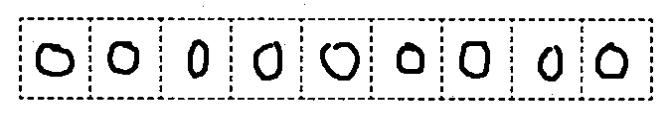O: (314, 37, 363, 86), (588, 37, 636, 82), (30, 40, 77, 82), (454, 36, 496, 83), (178, 35, 216, 83), (249, 37, 288, 83), (104, 36, 146, 77), (389, 38, 430, 80), (533, 41, 565, 84)
